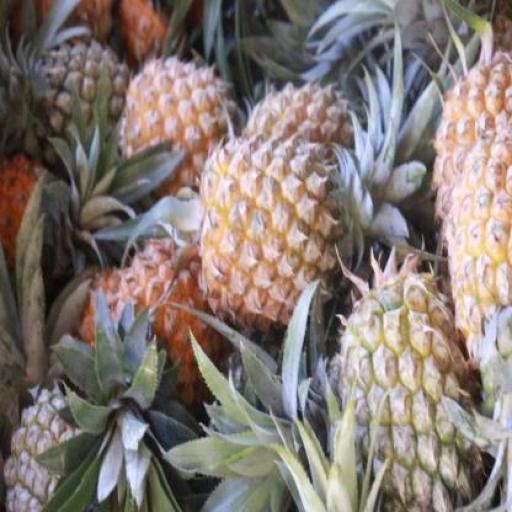------------------------------: (330, 264, 485, 504)
Pineapple - v8 v1: (199, 136, 340, 328), (110, 236, 219, 440), (440, 154, 512, 394), (123, 55, 241, 183)
